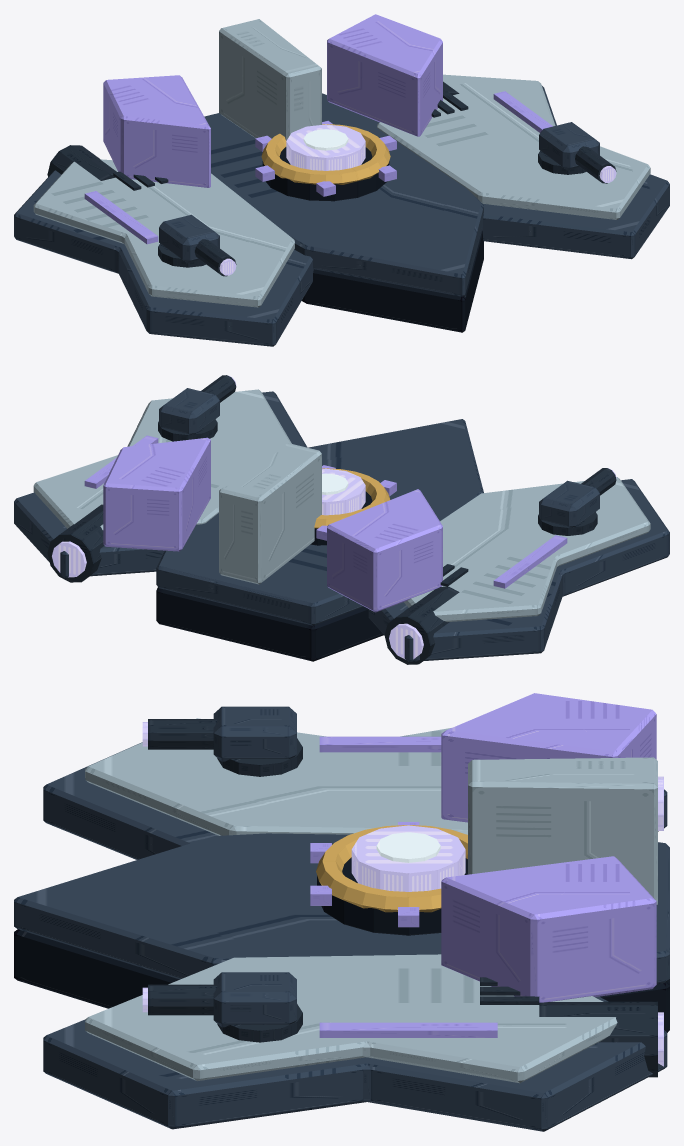
The model's file is boss-06-carrier-elite.glb.
3 views of the same model, one above another, from view 1: azimuth 30°, elevation 25°; view 2: azimuth 150°, elevation 25°; view 3: azimuth 270°, elevation 25° (orthographic). The views are drawn at different scales.
Visible parts, largest first — view 1: Boss_Ship_Geometry, Core_Geometry, Turret_R_Geometry, Turret_L_Geometry; view 2: Boss_Ship_Geometry, Turret_L_Geometry, Core_Geometry, Turret_R_Geometry; view 3: Boss_Ship_Geometry, Core_Geometry, Turret_R_Geometry, Turret_L_Geometry.
Boxes of the visible parts, x1,y1,x2,y2 form: Boss_Ship_Geometry: [14, 14, 669, 346]; Core_Geometry: [255, 120, 396, 201]; Turret_R_Geometry: [538, 122, 616, 183]; Turret_L_Geometry: [158, 214, 236, 276]; Boss_Ship_Geometry: [14, 389, 669, 664]; Turret_L_Geometry: [538, 468, 616, 535]; Core_Geometry: [310, 465, 396, 545]; Turret_R_Geometry: [158, 375, 236, 441]; Boss_Ship_Geometry: [14, 693, 669, 1131]; Core_Geometry: [310, 822, 467, 935]; Turret_R_Geometry: [142, 972, 302, 1042]; Turret_L_Geometry: [142, 706, 302, 776].
Bounding box in the file's own units: 7.4 × 1.96 × 5.55.
Materials: 8 (8 with a texture image).
